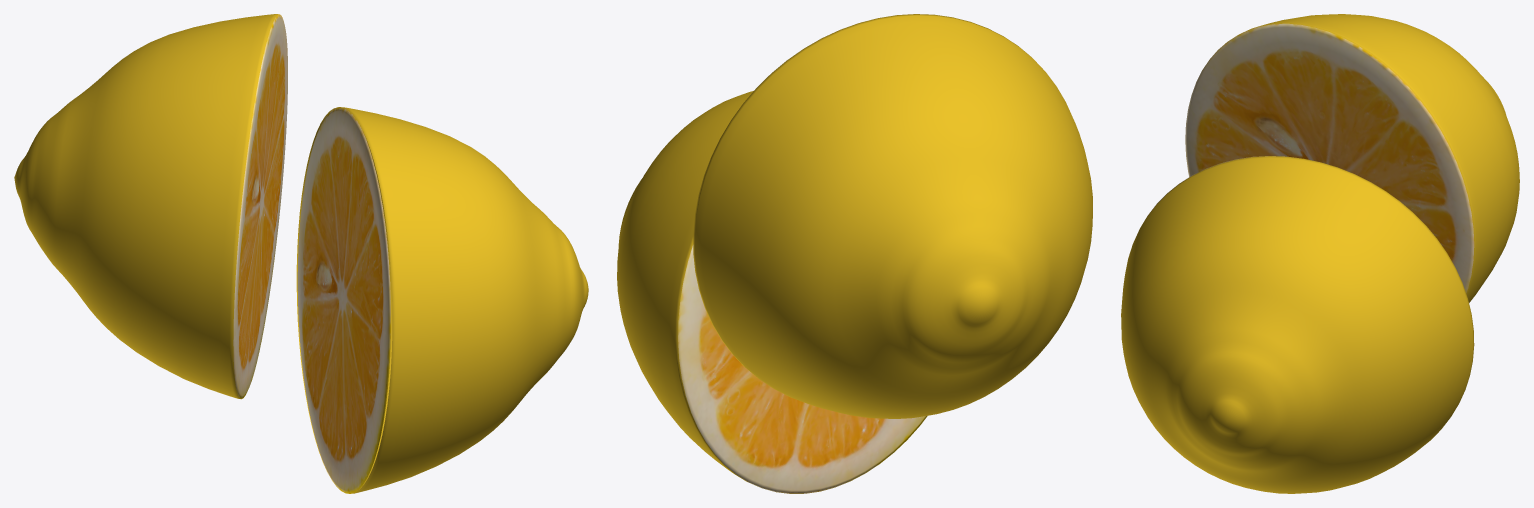
Rendered from sliced_lemon.glb.
3 views of the same model, side by side, from view 1: azimuth 30°, elevation 25°; view 2: azimuth 150°, elevation 25°; view 3: azimuth 270°, elevation 25° (orthographic). The views are drawn at different scales.
Visible parts, largest first — view 1: Lemon sliced_1.001, Lemon sliced_1; view 2: Lemon sliced_1, Lemon sliced_1.001; view 3: Lemon sliced_1.001, Lemon sliced_1.
Part boxes in pixels (x1,y1,x2,y2): Lemon sliced_1.001: (296, 107, 588, 493); Lemon sliced_1: (14, 14, 287, 399); Lemon sliced_1: (693, 14, 1092, 418); Lemon sliced_1.001: (617, 91, 927, 493); Lemon sliced_1.001: (1121, 156, 1474, 493); Lemon sliced_1: (1185, 14, 1519, 302).
Size of the model in its own units: 2.45 by 2.31 by 1.98.
Materials: 4 (2 with a texture image).
